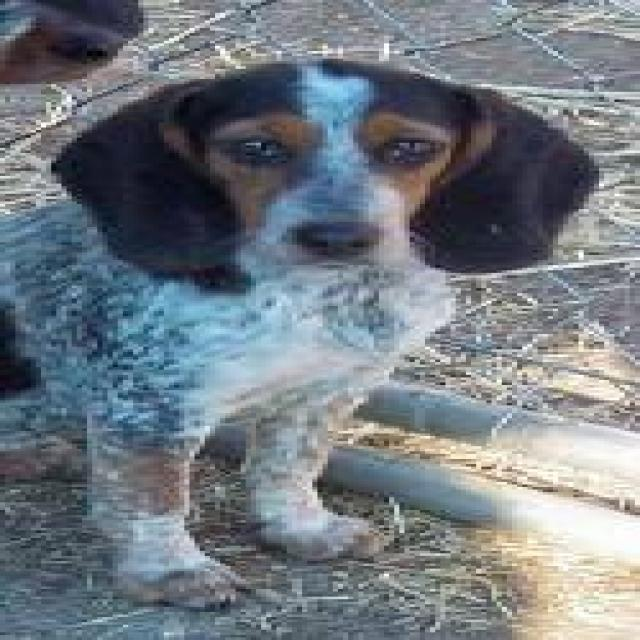sad: (20, 34, 589, 604)
